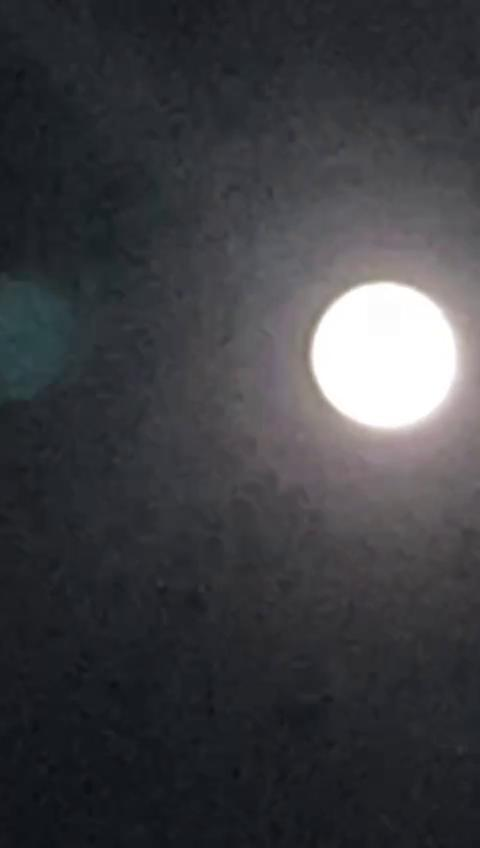moon: (306, 274, 466, 434)
